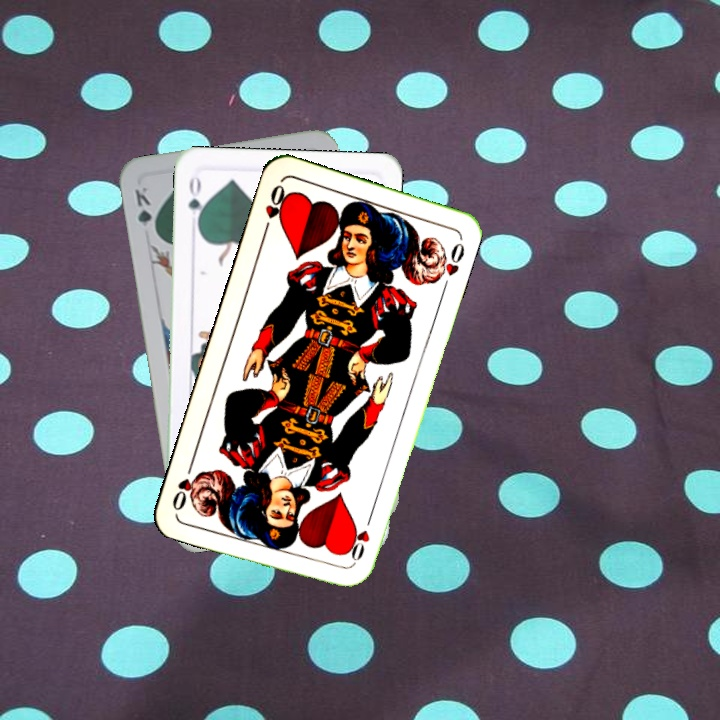GK: (130, 183, 159, 239)
GO: (184, 173, 207, 231)
HO: (259, 180, 292, 236), (343, 522, 373, 569)
